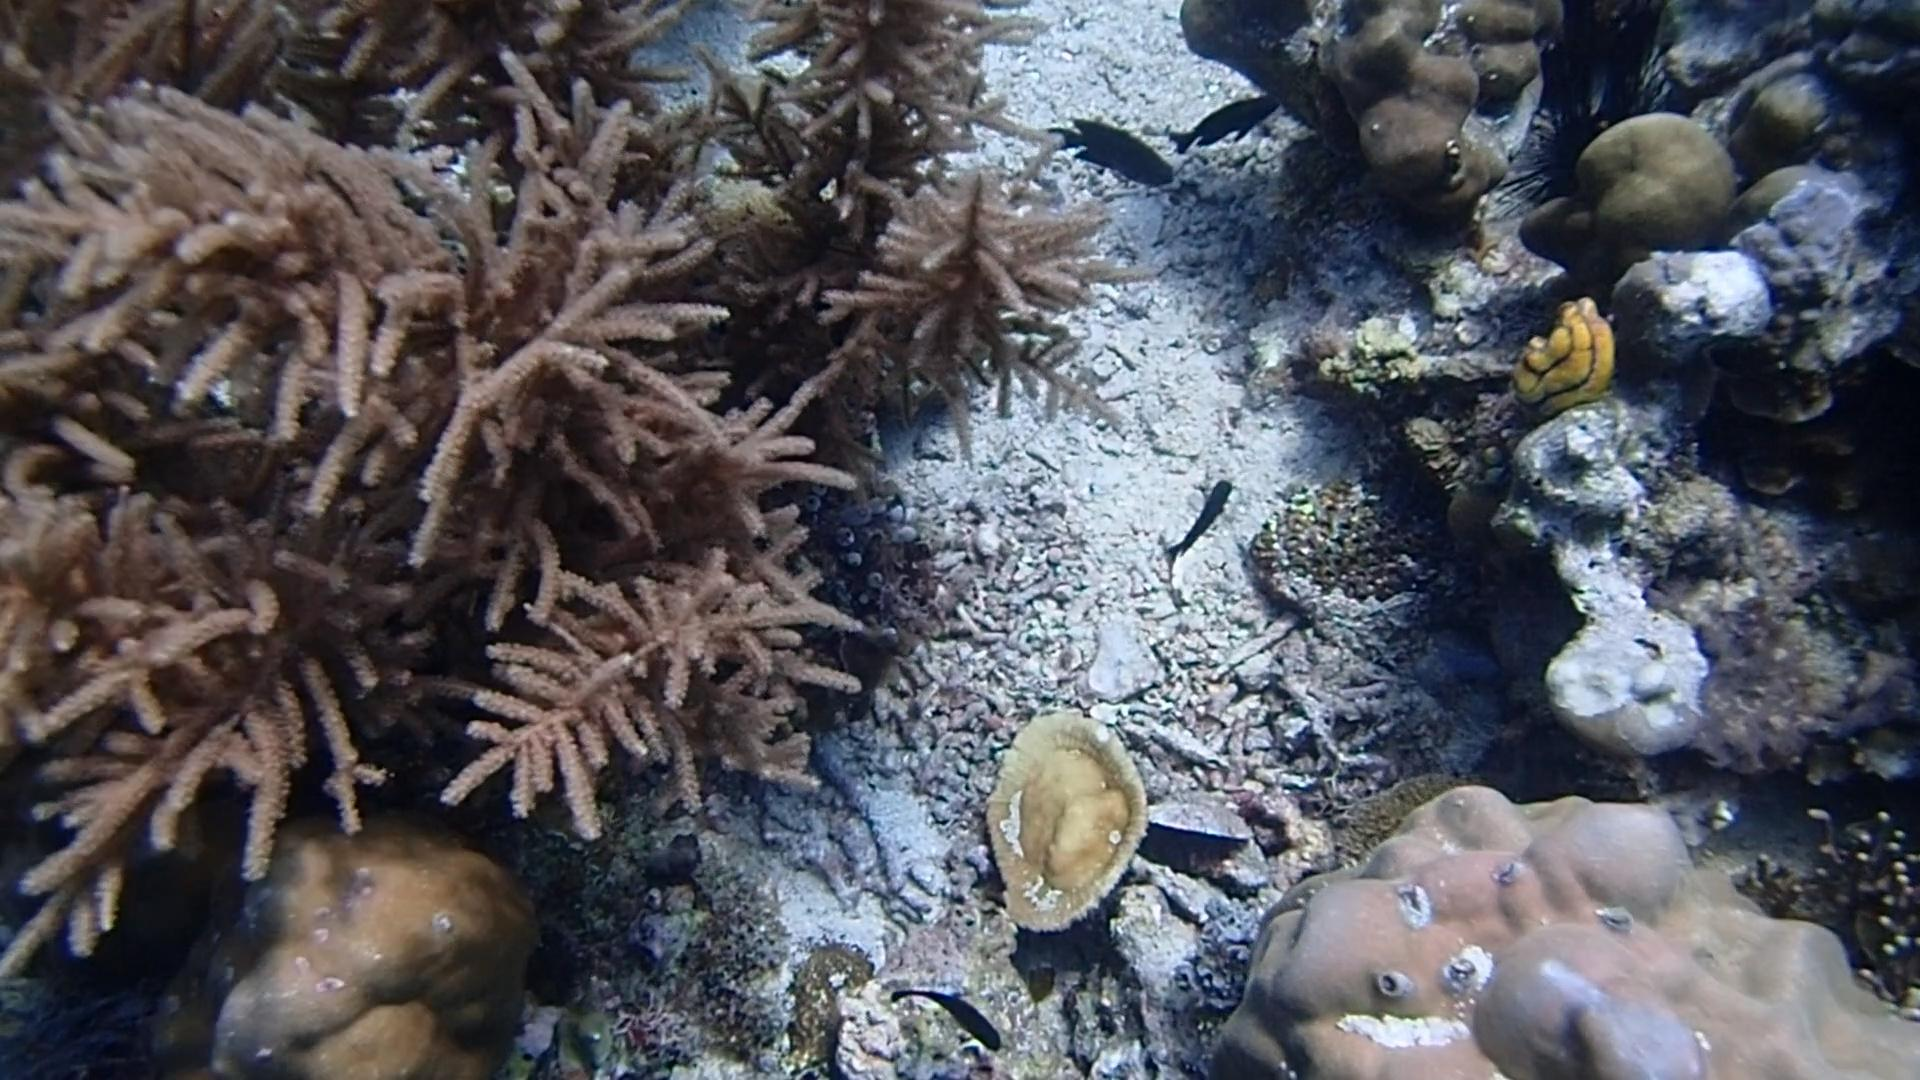Dark Fish: (1046, 104, 1172, 198), (882, 973, 1014, 1056), (1162, 90, 1287, 156), (1160, 473, 1238, 567)
